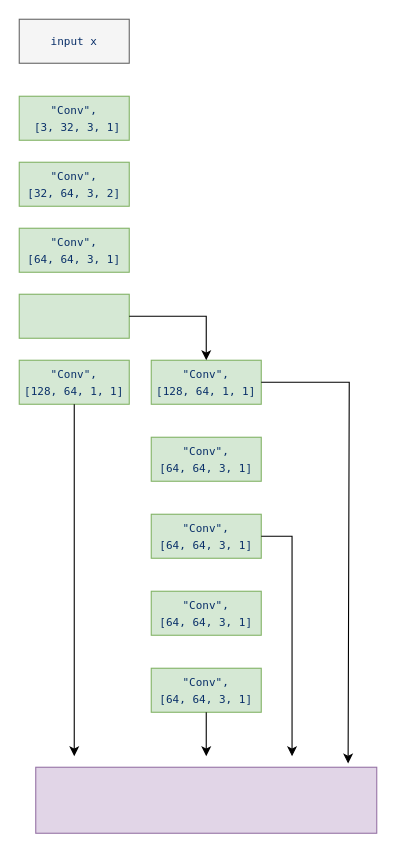
Some shapes in this 396 by 853 pixel diagram are drawn without their labels. Here are the shapes that lost their labels. From the top down, the box of each, then its label:
(18, 293, 129, 338): "Conv", [64, 128, 3, 2]
(35, 766, 377, 833): "Cat", [-1, -3, -5, -6]
